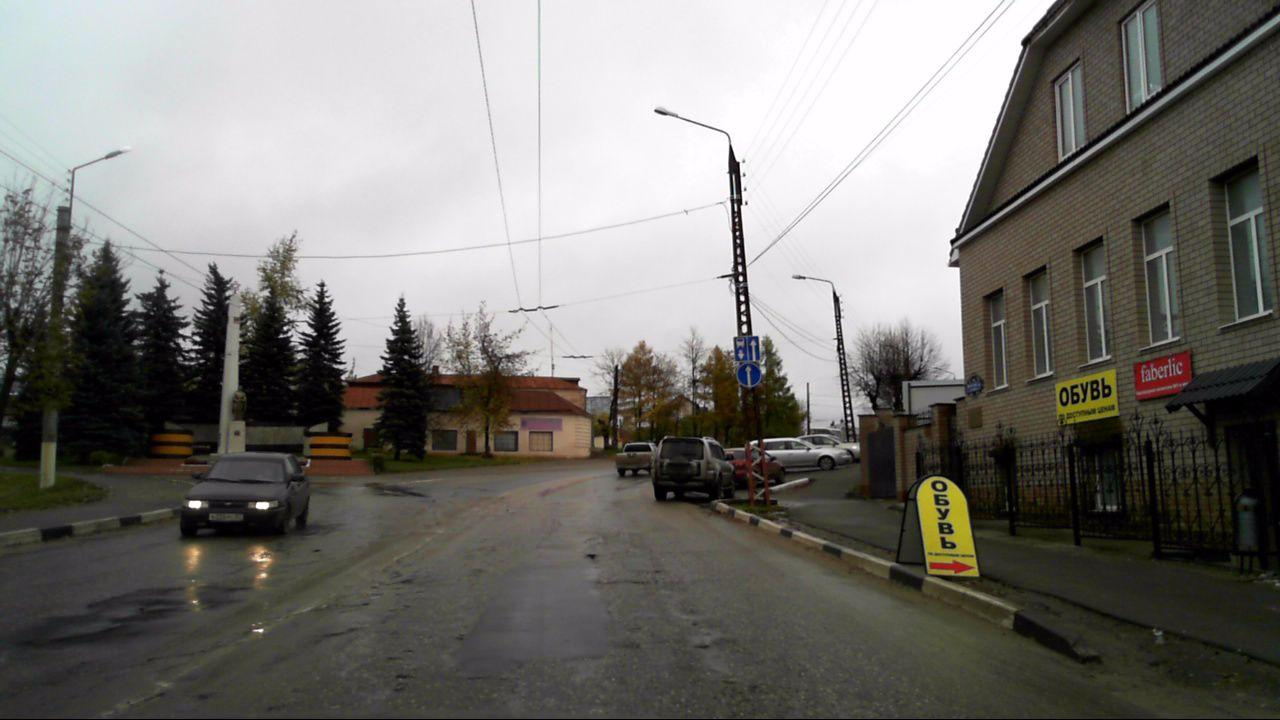road_sign: (736, 362, 762, 389), (734, 336, 760, 361)
